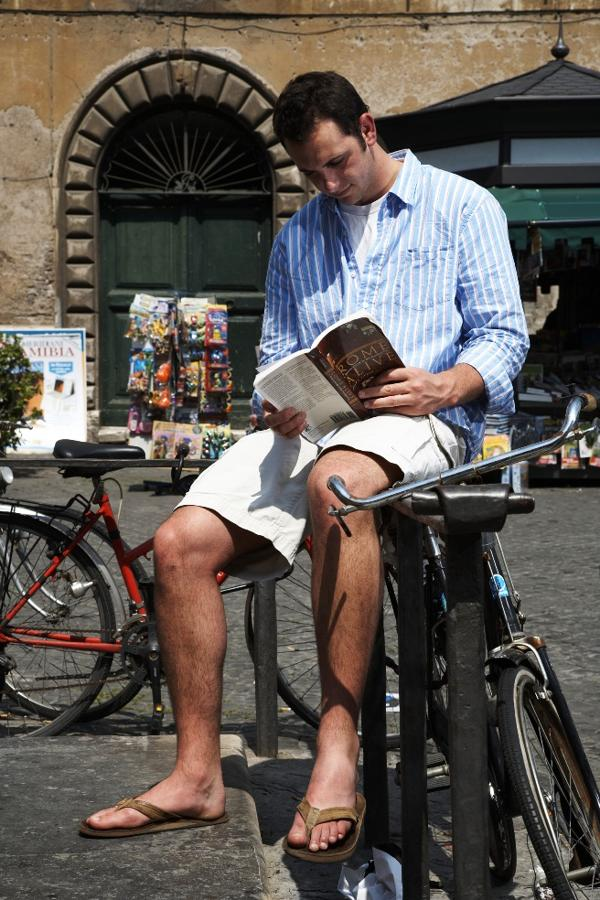person: (87, 65, 532, 860)
